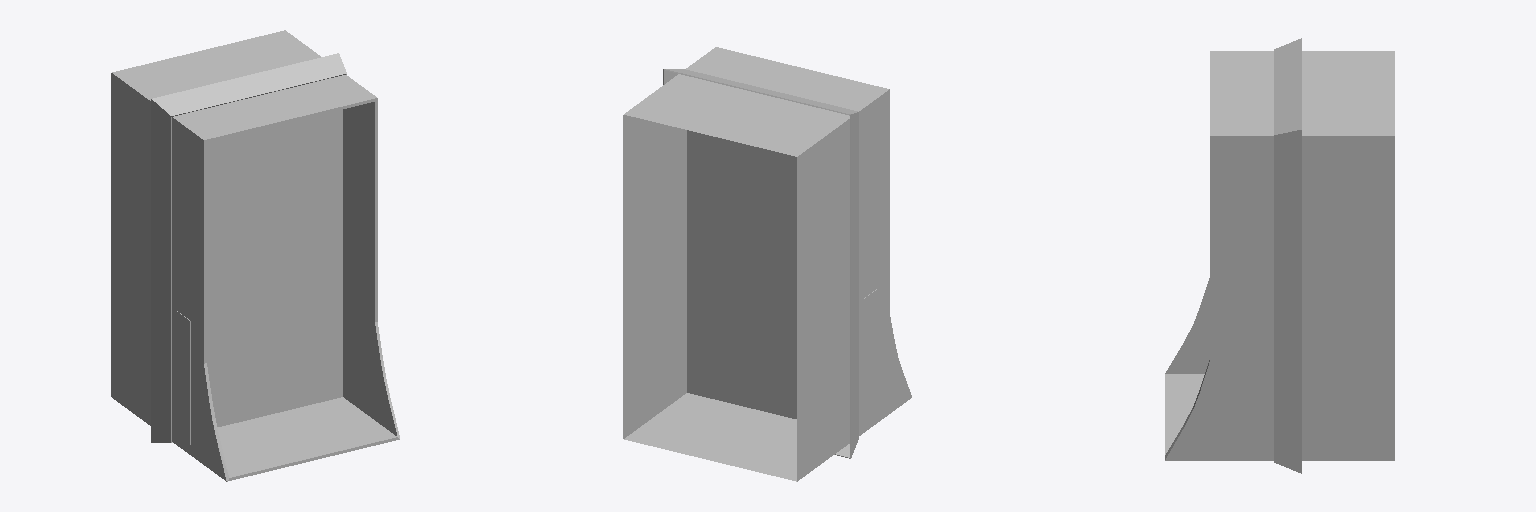
The model's file is tower23.obj.
The picture shows the model from 3 angles: view 1: azimuth 30°, elevation 25°; view 2: azimuth 150°, elevation 25°; view 3: azimuth 270°, elevation 25°; orthographic projection.
Parts seen in each view (by area): view 1: tower23; view 2: tower23; view 3: tower23.
Boxes of the visible parts, <box> form: tower23: <box>111,30,399,481</box>; tower23: <box>623,47,911,481</box>; tower23: <box>1165,38,1394,473</box>.
Bounding box in the file's own units: 12.93 × 22.69 × 13.77.